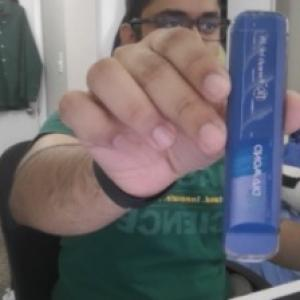Diamond-E-Ciggirate: (222, 8, 290, 268)
